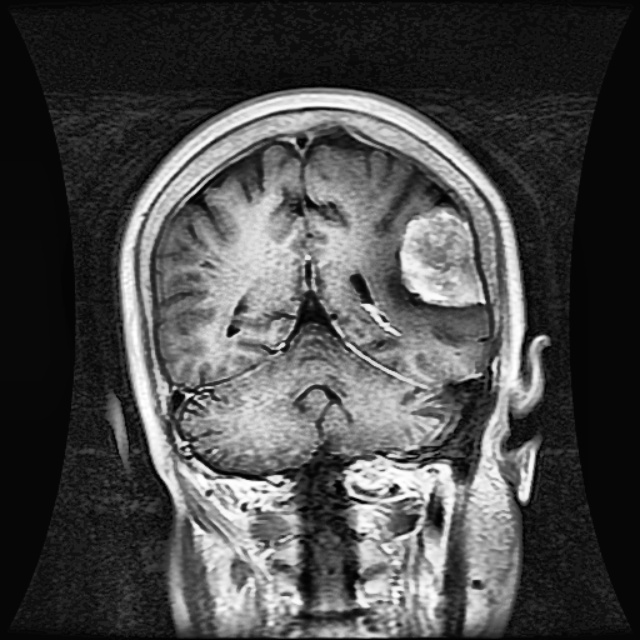Glioma: (398, 205, 484, 305)
